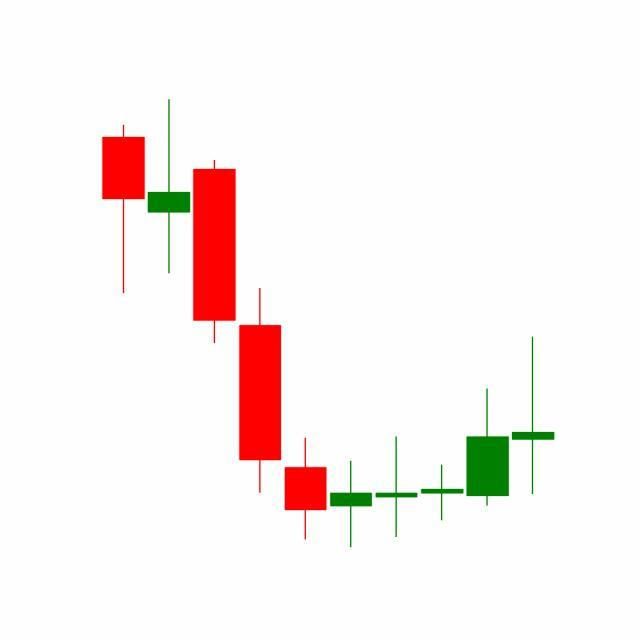Hikkake Pattern: (283, 386, 512, 549)
